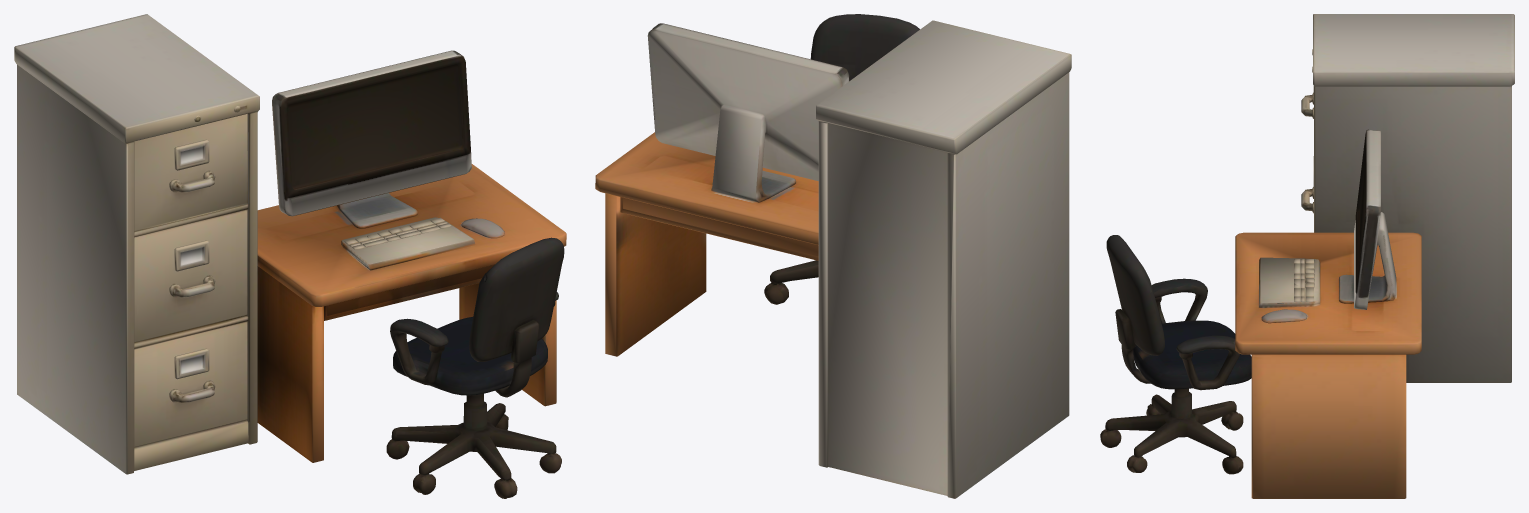
File: filing_cabinet_and_desk_with_computer_85ad453f_v1.glb
The picture shows the model from 3 angles, left to right: view 1: azimuth 30°, elevation 25°; view 2: azimuth 150°, elevation 25°; view 3: azimuth 270°, elevation 25°; orthographic projection. The views are drawn at different scales.
Visible parts, largest first — view 1: material; view 2: material; view 3: material.
Part boxes in pixels (bbox=[...]): material: bbox=[14, 14, 566, 498]; material: bbox=[595, 14, 1071, 498]; material: bbox=[1100, 14, 1514, 498].
Bounding box in the file's own units: 1.9 × 1.6 × 1.9.
Materials: 1 (1 with a texture image).
